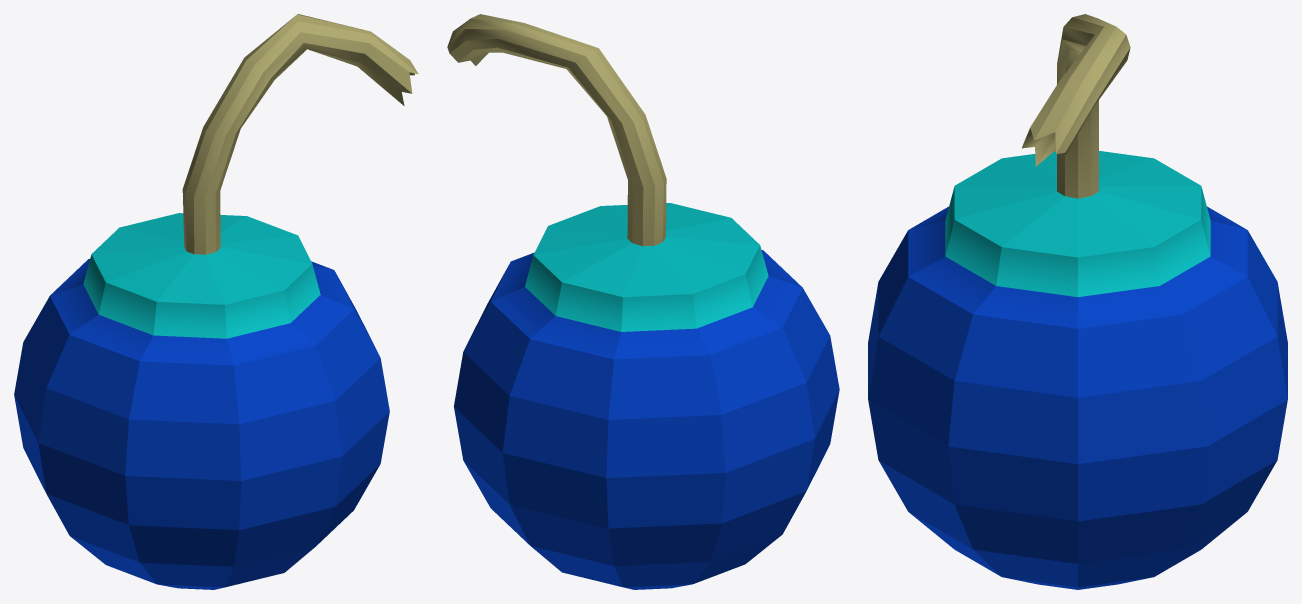
Rendered from Bomb.fbx.
3 renders of one model, left to right at view 1: azimuth 30°, elevation 25°; view 2: azimuth 150°, elevation 25°; view 3: azimuth 270°, elevation 25°, orthographic. The views are drawn at different scales.
Parts seen in each view (by area): view 1: pSphere1, pCylinder1; view 2: pSphere1, pCylinder1; view 3: pSphere1, pCylinder1.
Part boxes in pixels (x1,y1,x2,y2): pSphere1: (14,213,389,589); pCylinder1: (182,14,418,254); pSphere1: (454,203,839,589); pCylinder1: (447,14,666,246); pSphere1: (868,151,1287,589); pCylinder1: (1022,14,1130,198).
Size of the model in its own units: 2.24 by 3.04 by 1.9.
